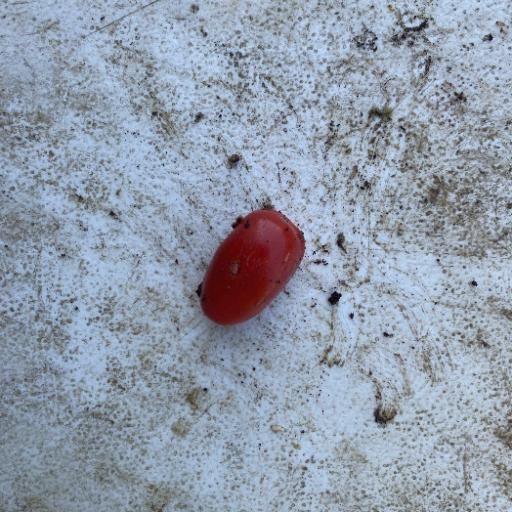Waste: (1, 1, 509, 510), (194, 206, 307, 327)
